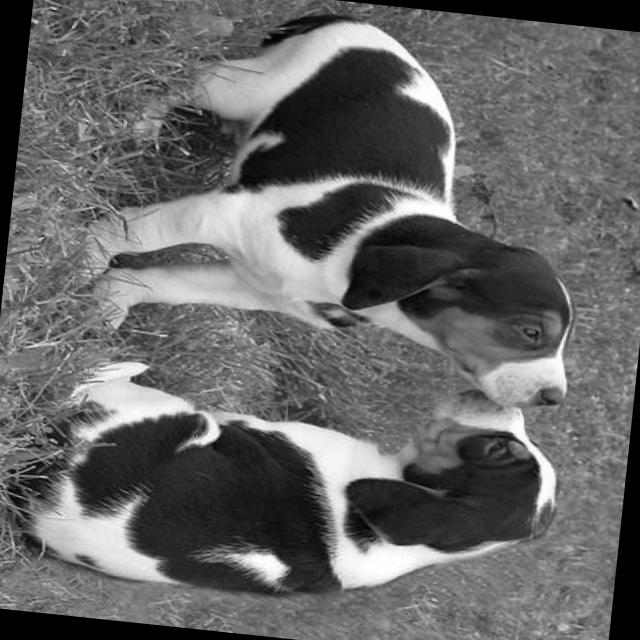sitting: (0, 350, 570, 640)
